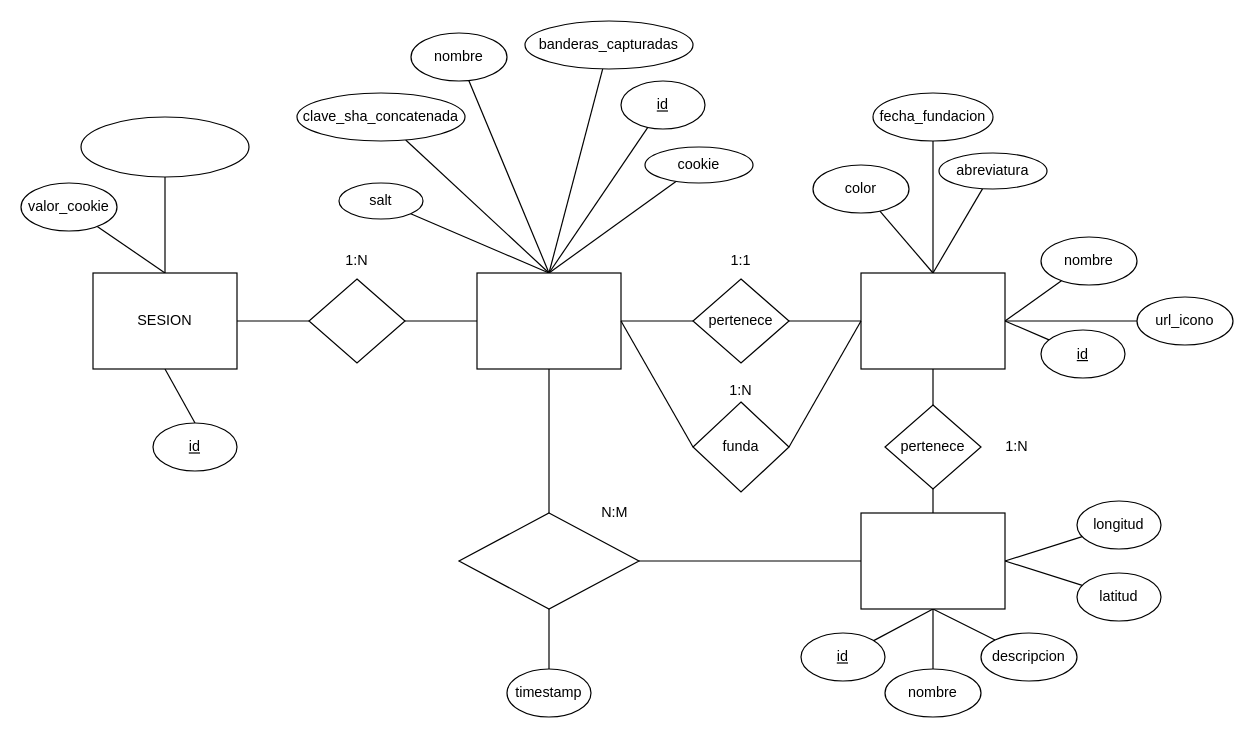
This 1254x738 diagram has some shape labels left out. The shapes that lost their labels are listed below. From the top down, each one's box as (x1, y1, x2, y2) in pixels, then its label:
(80, 116, 249, 177): timestamp_caducidad
(308, 278, 405, 363): inicia
(476, 272, 621, 369): USUARIO
(860, 272, 1005, 369): CLAN
(458, 512, 639, 609): INTENTO_CAPTURA
(860, 512, 1005, 609): BANDERA
